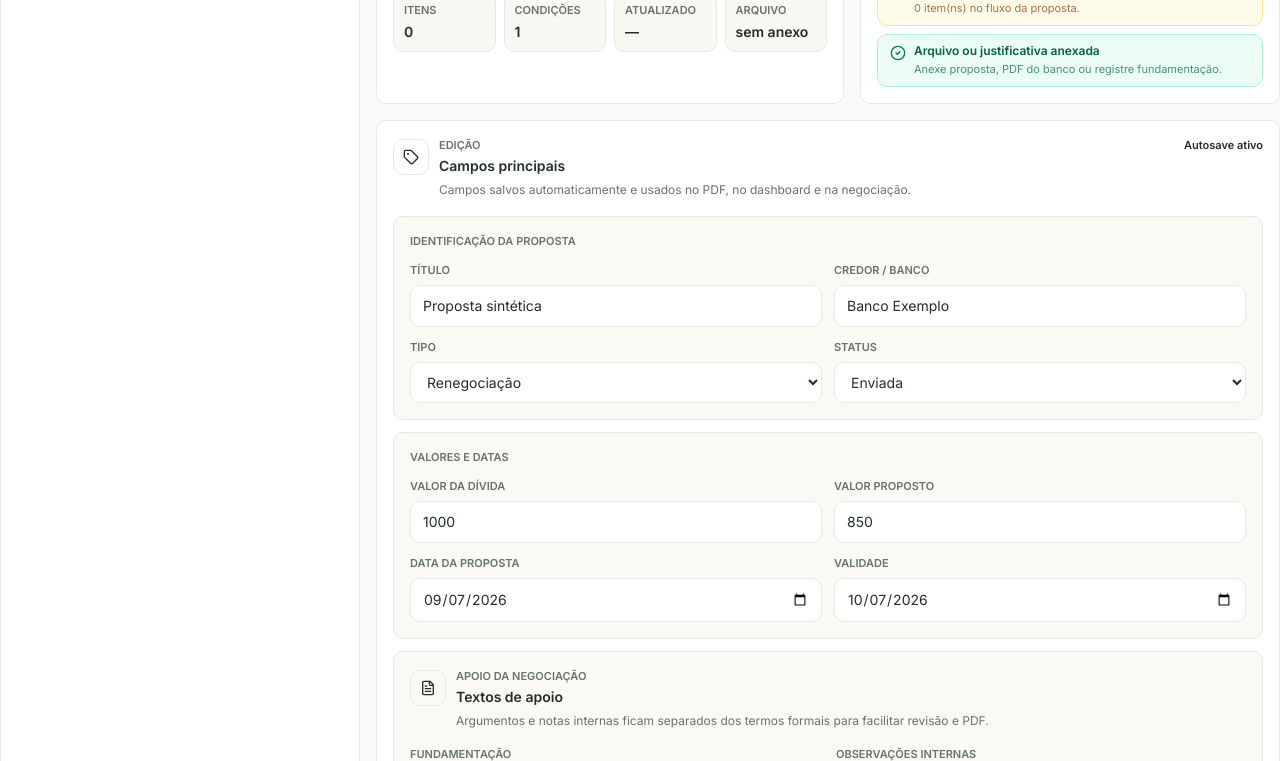
Test: Editor no CRM: revisão e gravação explícita de aceite › exige Salvar para confirmar status e bloqueia os termos após aceite
The width and height of the screenshot is (1280, 761).
(page scrolled)
Select "Aceita" in the dropdown labelled "Status" at {"x": 1040, "y": 382}, box 834,362 -> 1246,403
Wait 2000 ms
(page scrolled)
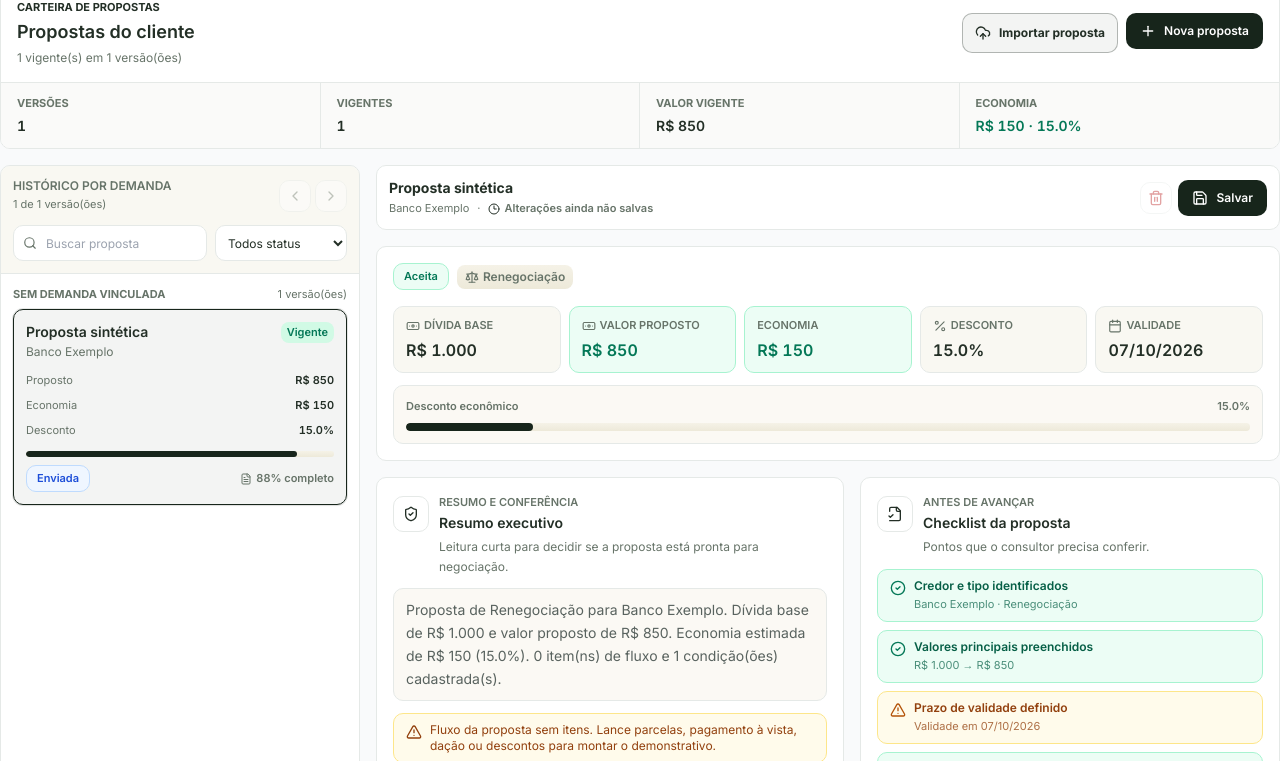
Click the button "Salvar" at {"x": 1223, "y": 198}, box 1178,180 -> 1267,216
(page scrolled)
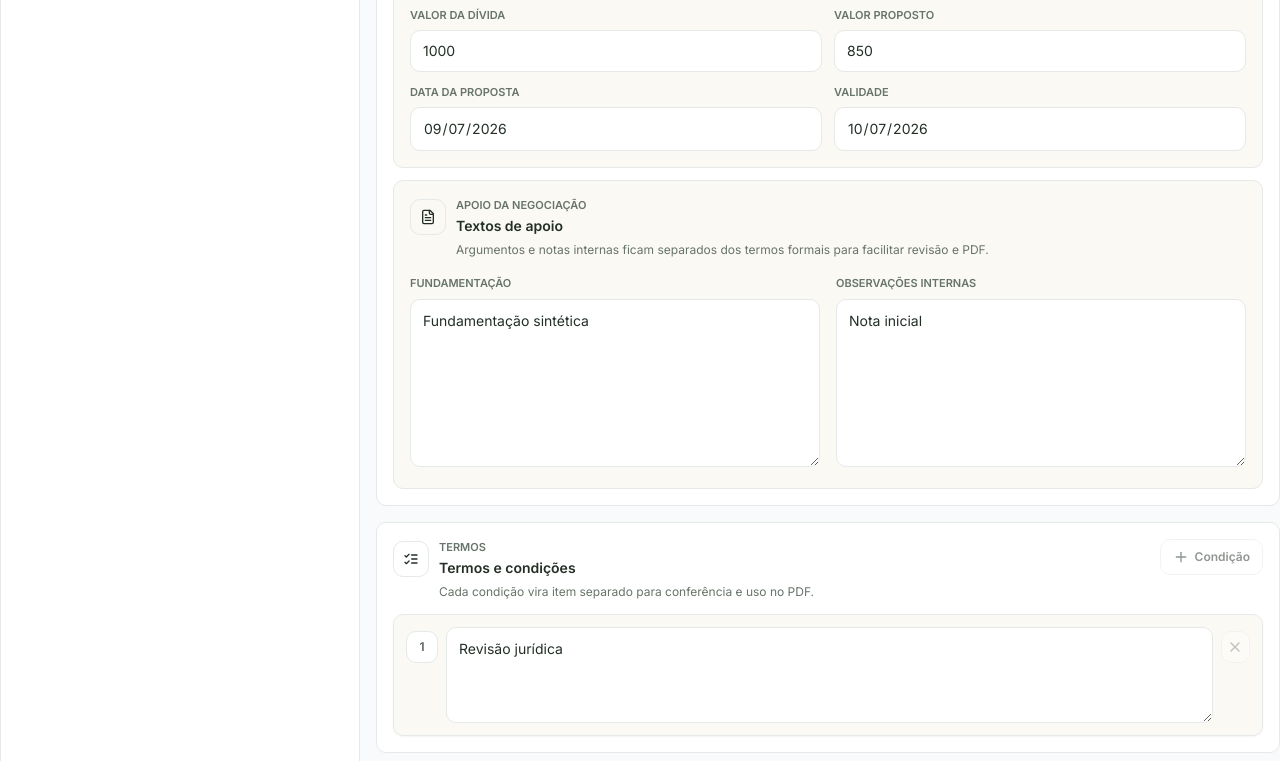
Expected: the text box labelled "Observações internas" is enabled, 836,298 -> 1246,466
Result: the text box labelled "Fundamentação" is disabled at 410,298 -> 820,466
